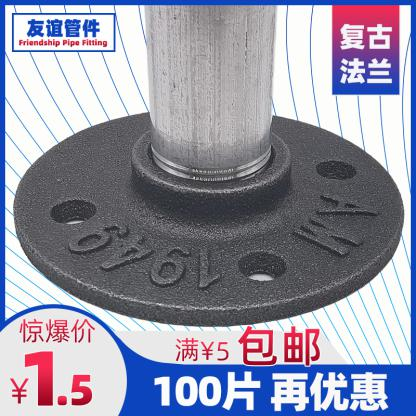FOD: (9, 110, 406, 328)
